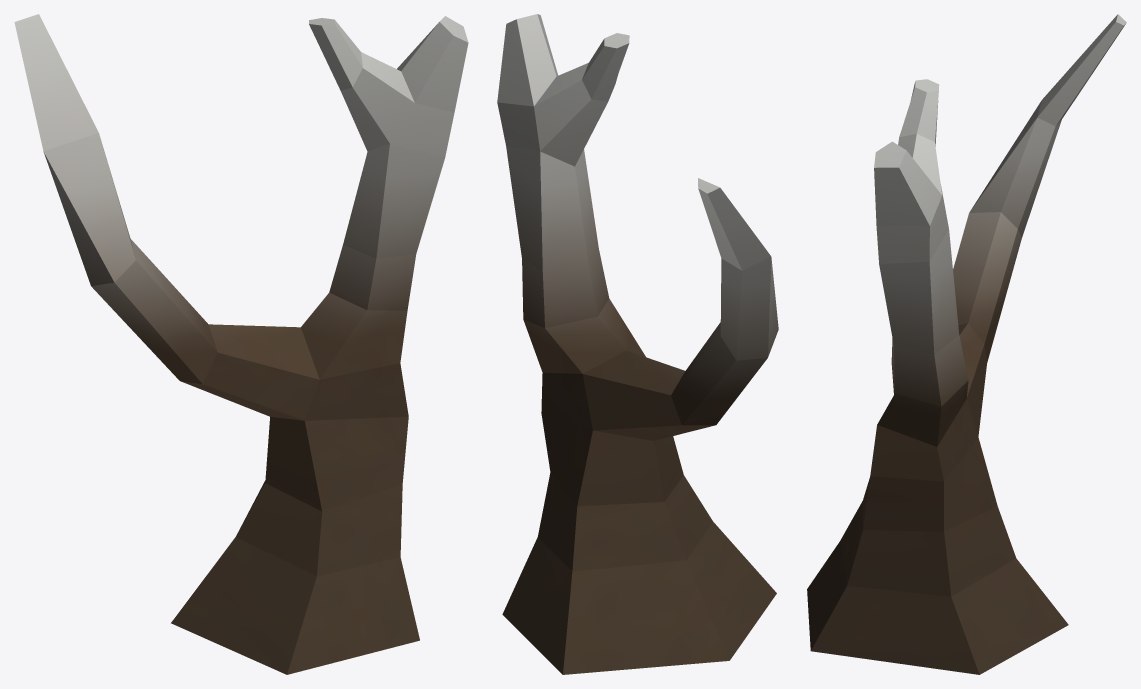
The model's file is Tree_oak_bare.obj.
The picture shows the model from 3 angles, left to right: view 1: azimuth 30°, elevation 25°; view 2: azimuth 150°, elevation 25°; view 3: azimuth 270°, elevation 25°; orthographic projection. The views are drawn at different scales.
Parts seen in each view (by area): view 1: Tree_oak_bare; view 2: Tree_oak_bare; view 3: Tree_oak_bare.
Part boxes in pixels (x1,y1,x2,y2): Tree_oak_bare: (14,14,468,674); Tree_oak_bare: (497,14,778,674); Tree_oak_bare: (807,14,1126,674).
Size of the model in its own units: 4.81 by 7.8 by 4.1.
